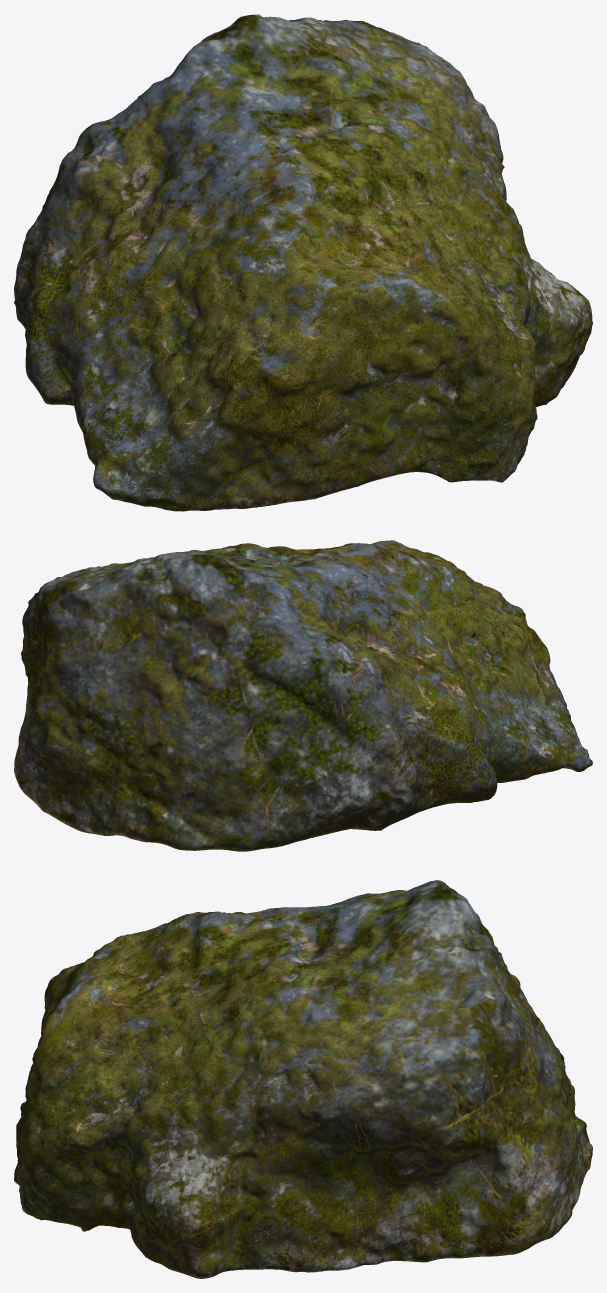
Rendered from moss rock.obj.
3 renders of one model, top to bottom at view 1: azimuth 30°, elevation 25°; view 2: azimuth 150°, elevation 25°; view 3: azimuth 270°, elevation 25°, orthographic. The views are drawn at different scales.
Visible parts, largest first — view 1: mesh1_000_mesh1-geometry.008; view 2: mesh1_000_mesh1-geometry.008; view 3: mesh1_000_mesh1-geometry.008.
Part boxes in pixels (x1,y1,x2,y2): mesh1_000_mesh1-geometry.008: (14,14,592,511); mesh1_000_mesh1-geometry.008: (14,540,592,851); mesh1_000_mesh1-geometry.008: (14,880,592,1278).
Size of the model in its own units: 1.43 by 0.8276 by 1.44.
